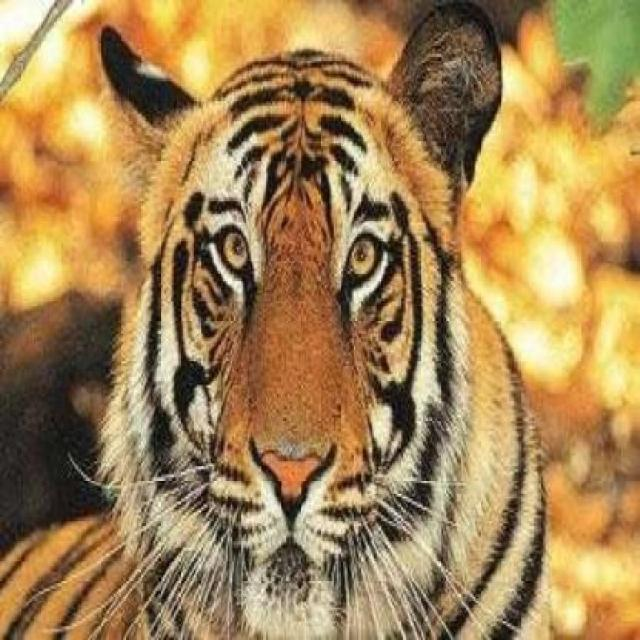tiger: (0, 0, 559, 639)
